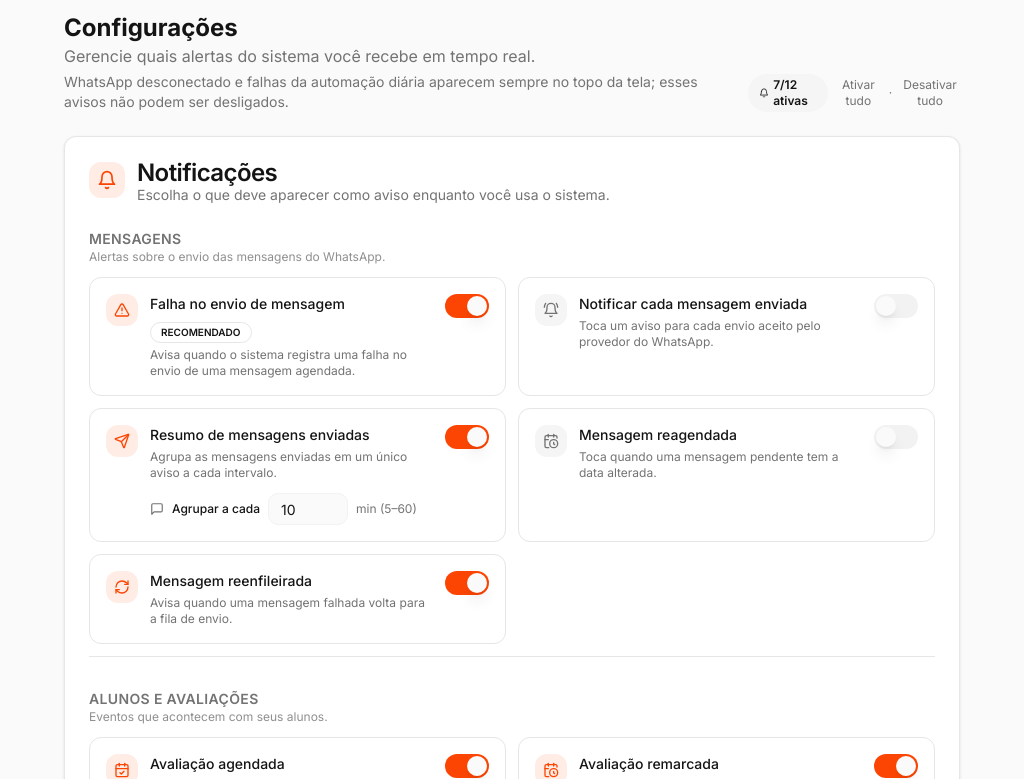
Scenario: basic notification settings reliability › restores the persisted interval when saving fails
Replace the text in the number field labelled "Agrupar a cada" with "25" at (308, 509), box x1=268 y1=493 x2=348 y2=525
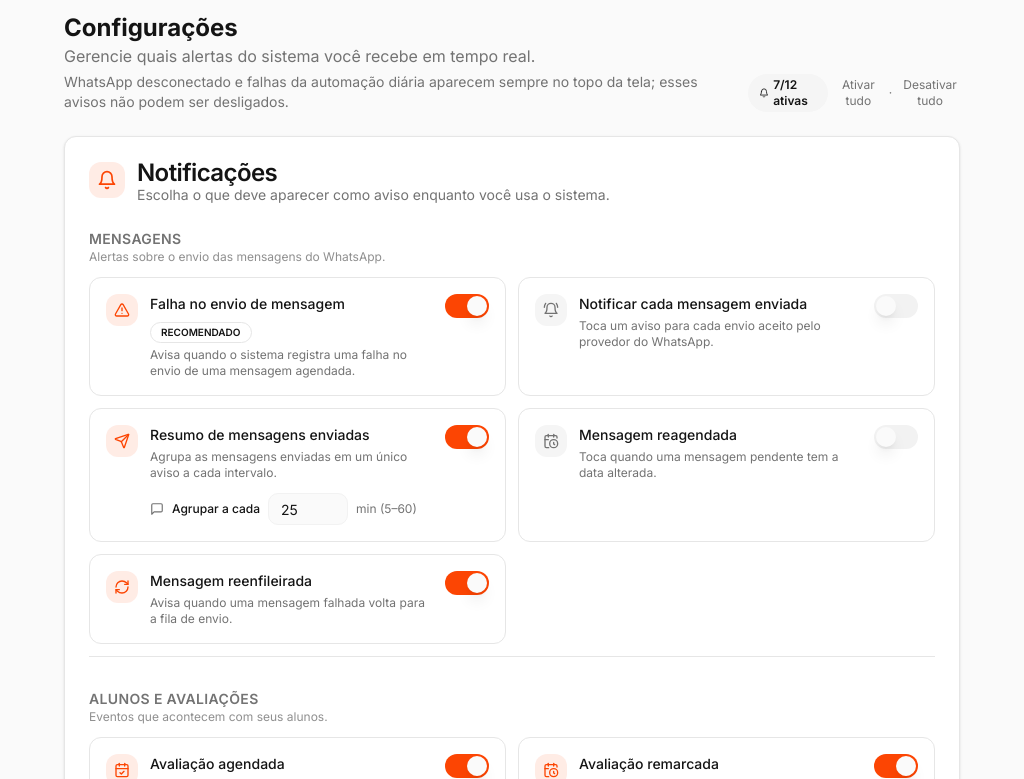
Leave the number field labelled "Agrupar a cada", box x1=268 y1=493 x2=348 y2=525
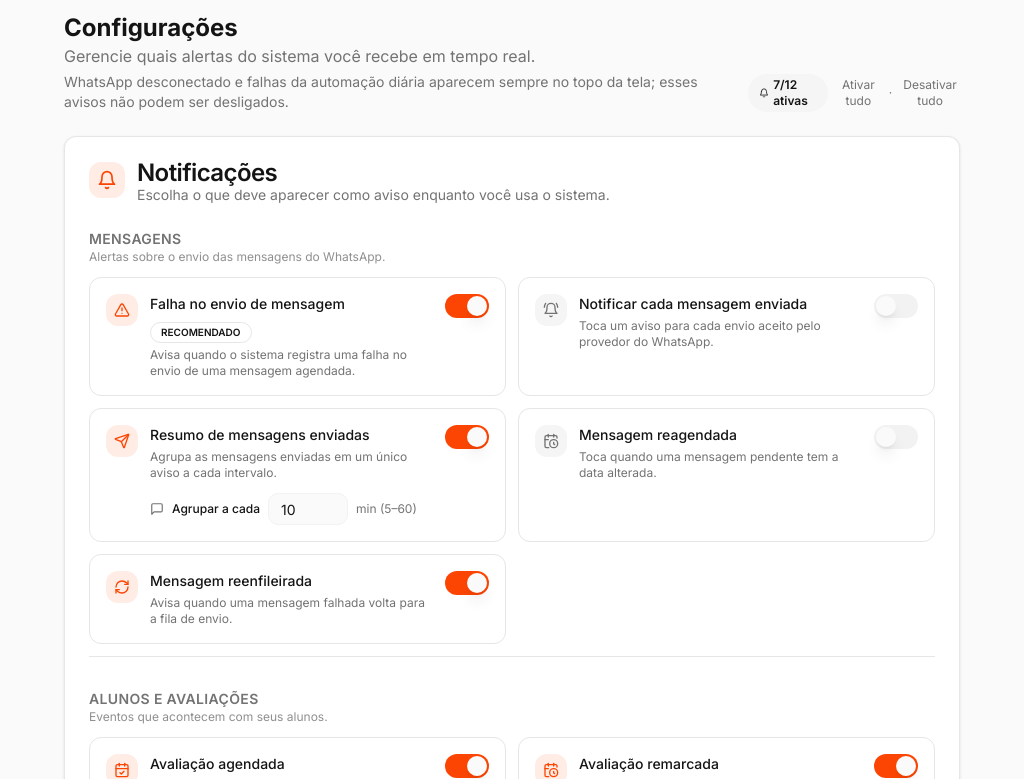
Now the number field labelled "Agrupar a cada" holds "10", box x1=268 y1=493 x2=348 y2=525
